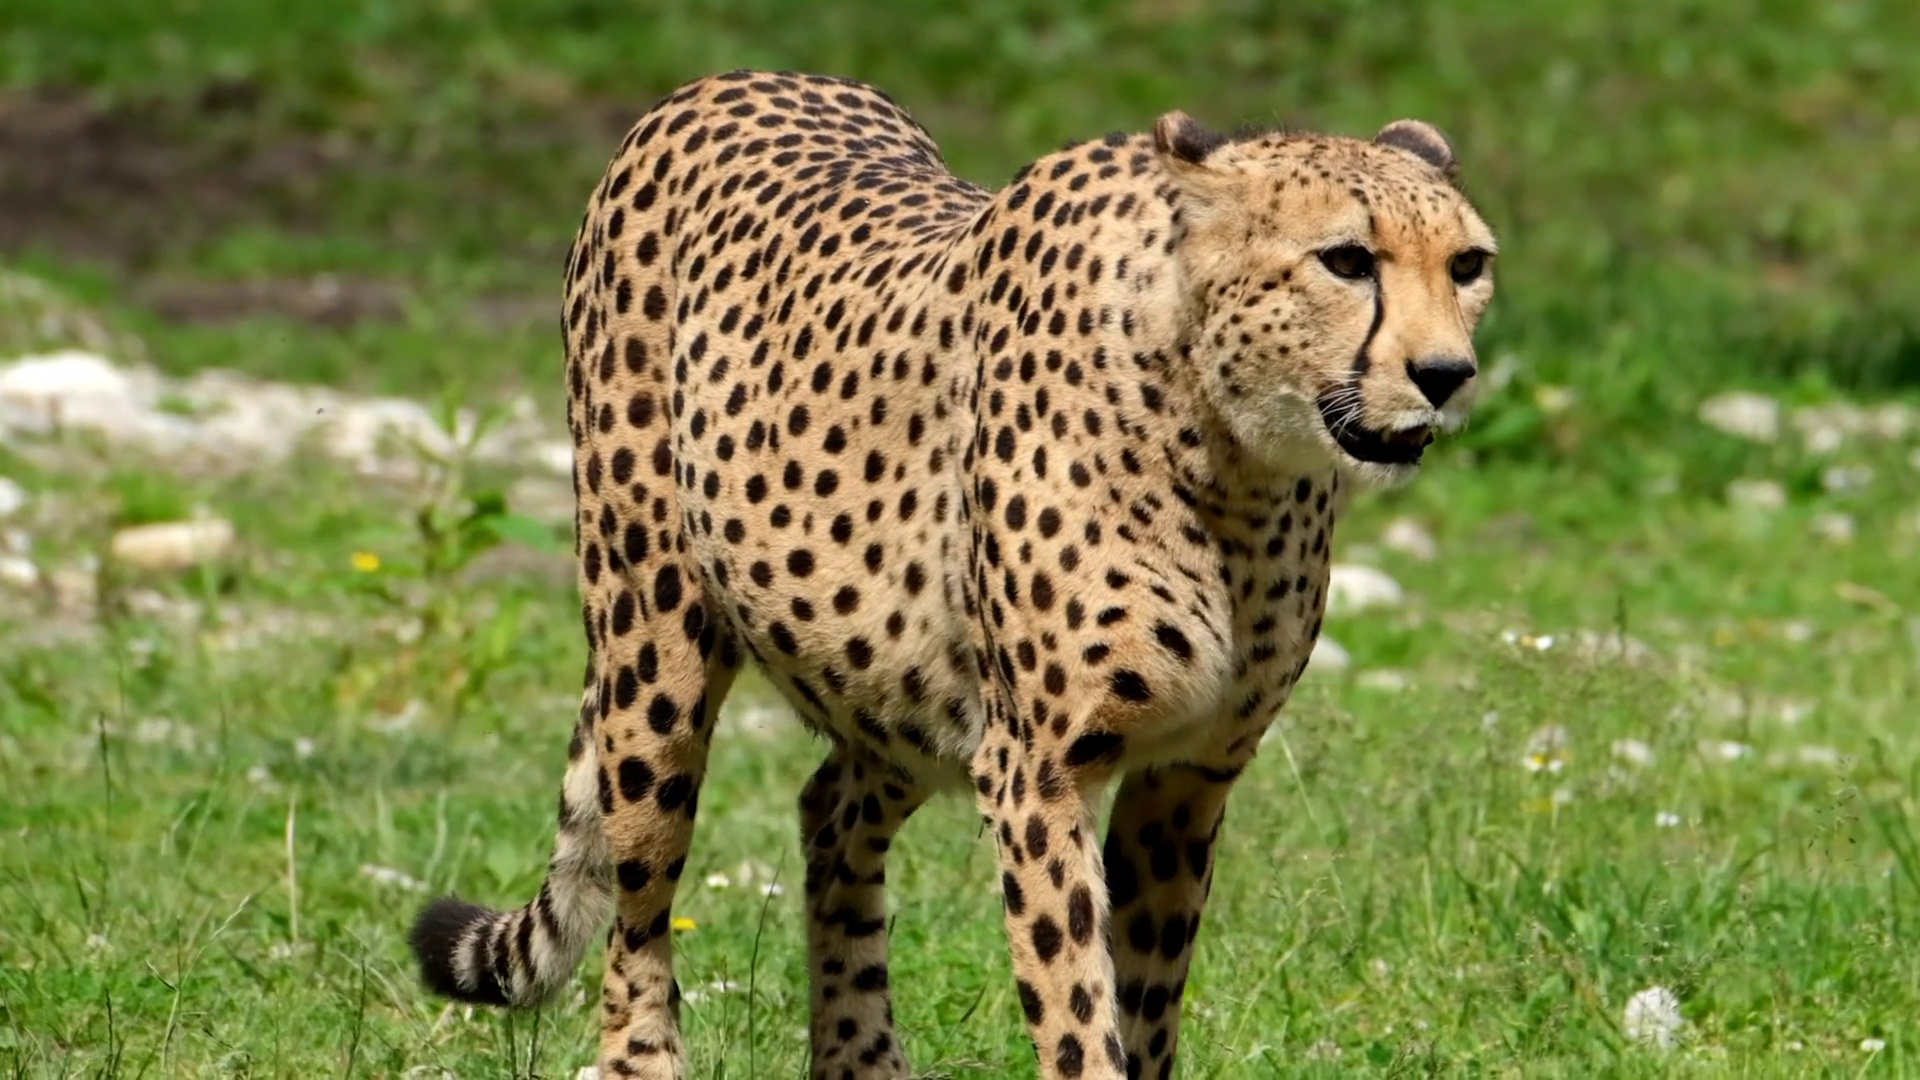Cheetah: (407, 63, 1501, 1080)
